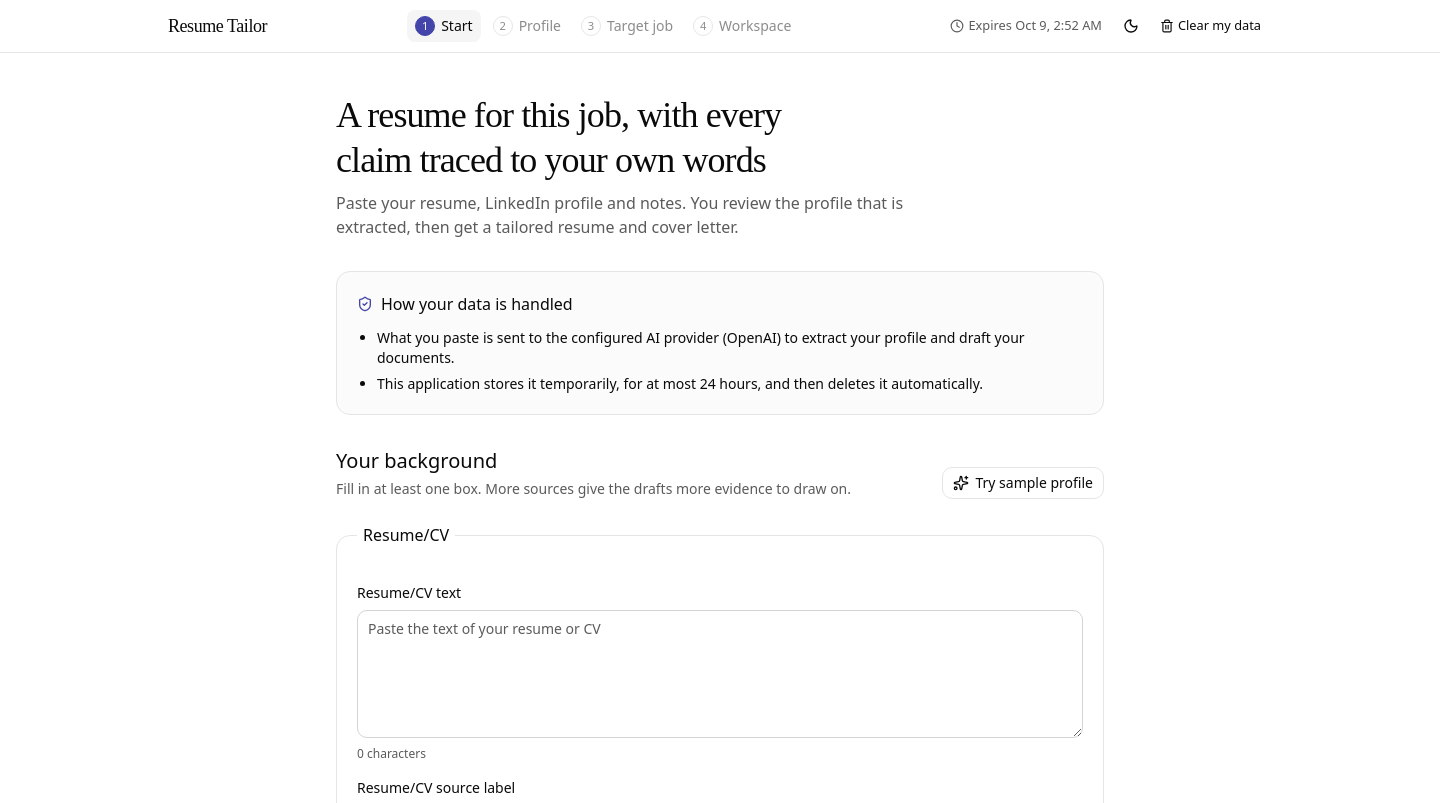
Test: StartPage › rejects text over the limit with a clear message and a live counter
Type "This sentence is longer than twenty characters." into the text box labelled "Resume/CV text" at (720, 674), box [357,610,1083,738]
(page scrolled)
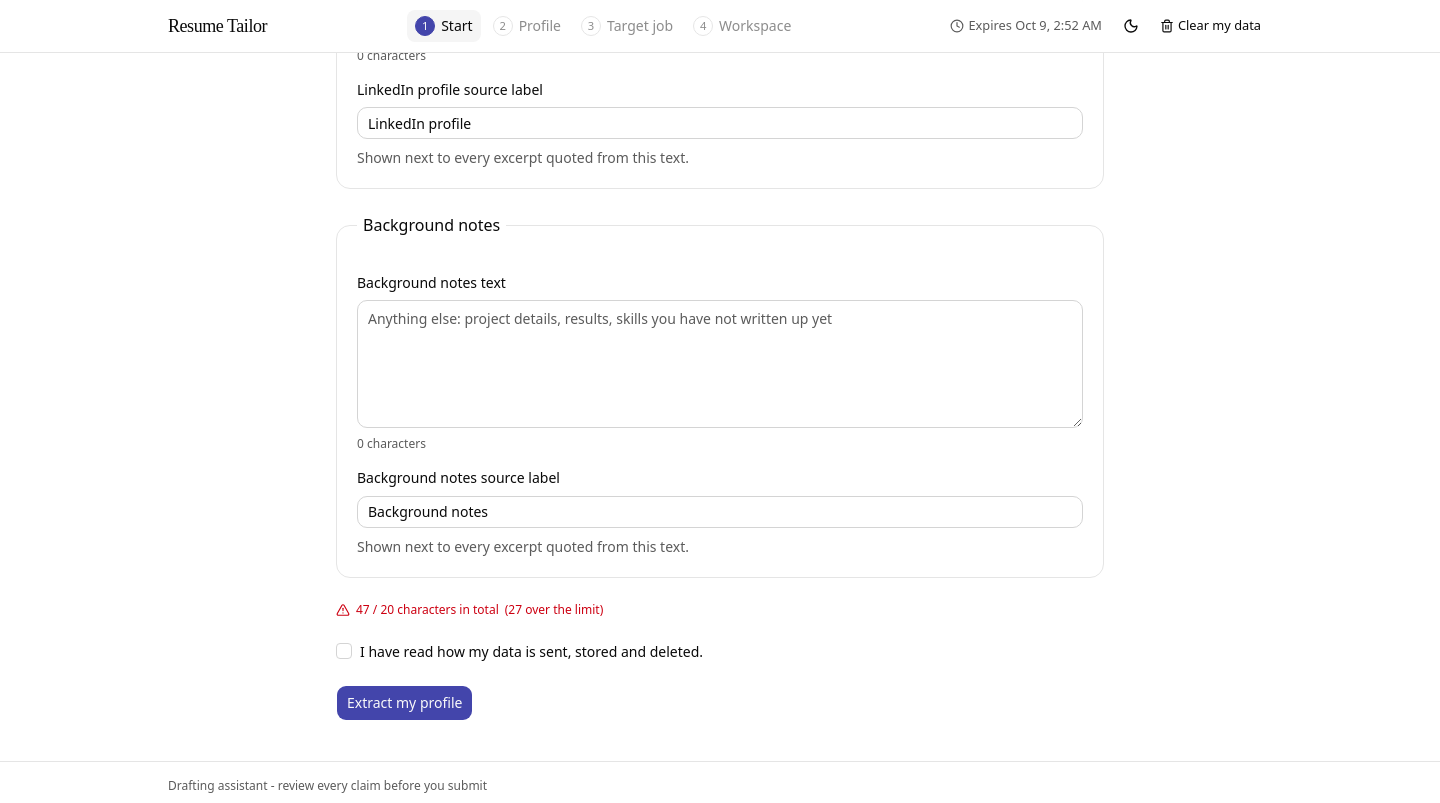
Click the checkbox named "I have read how my data is sent, stored and deleted." at (344, 651), box [336,643,352,659]
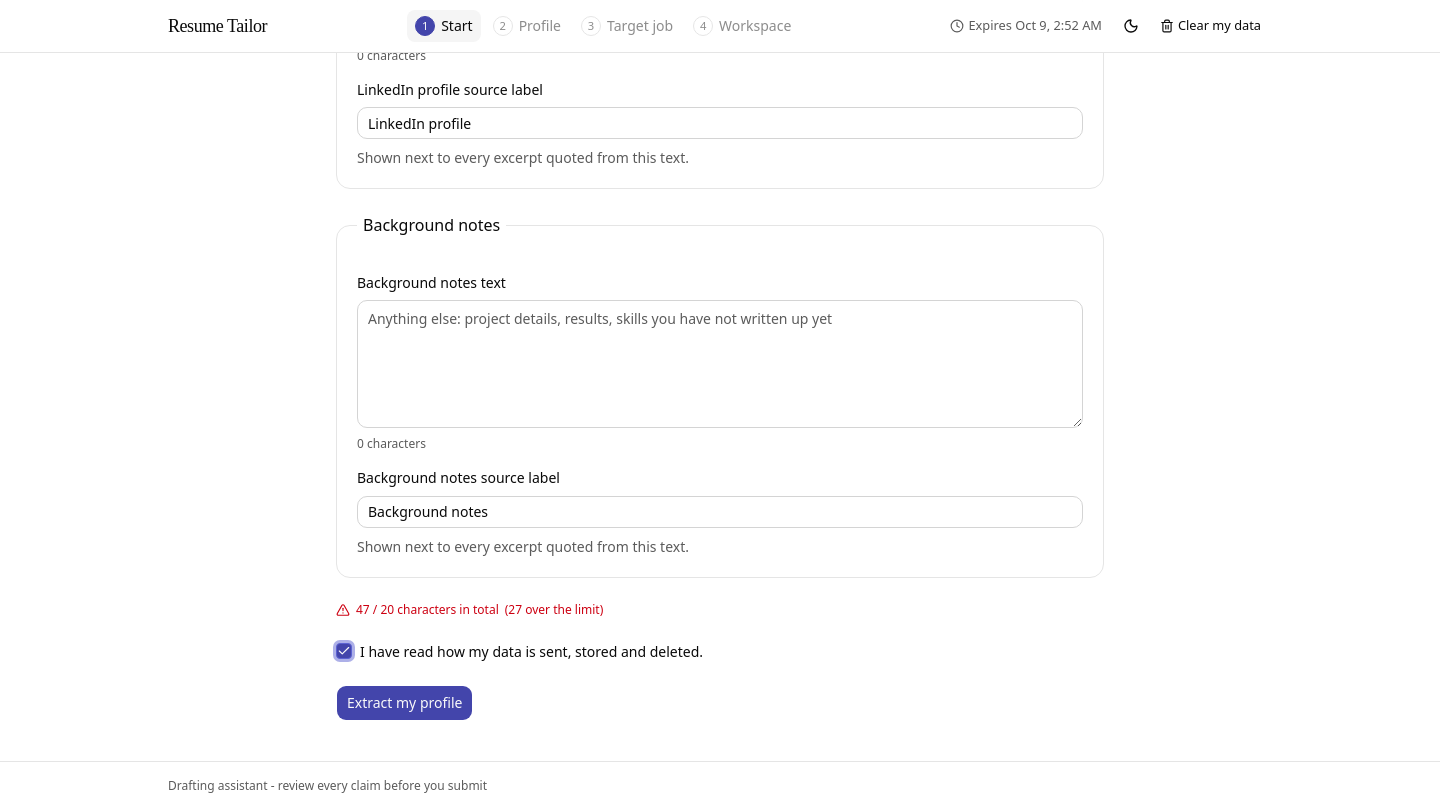
Expected: the text "47 / 20 characters in total" is shown, [356,602,499,618]
Expected: the text "(27 over the limit)" is shown, [505,602,603,618]
Click the button "Extract my profile" at (405, 703), box [336,685,473,721]
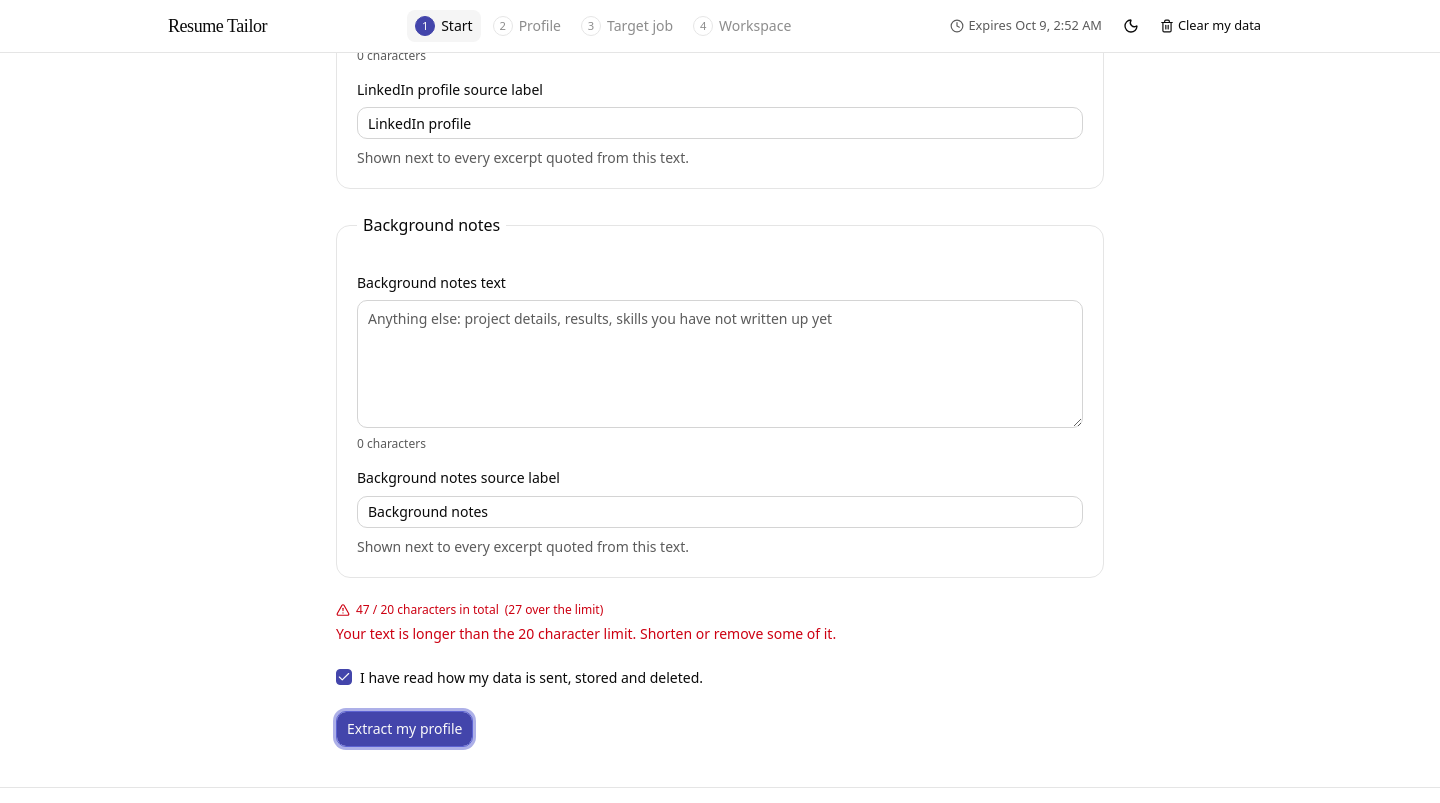
Expected: the text "Your text is longer than the 20 character limit. Shorten or remove some of it." is shown, [336,624,836,642]
